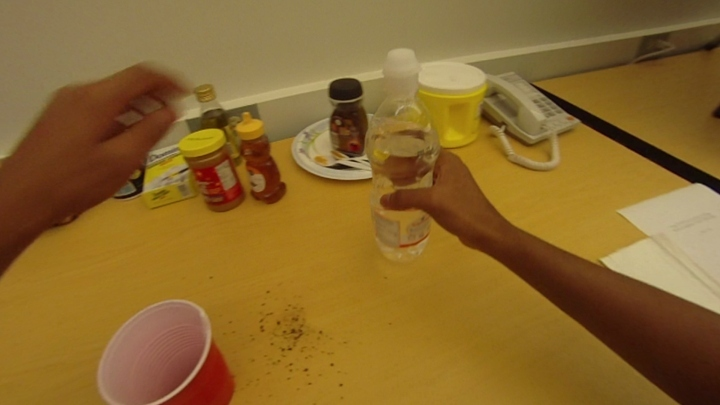hand: (29, 61, 187, 196), (379, 126, 511, 258)
